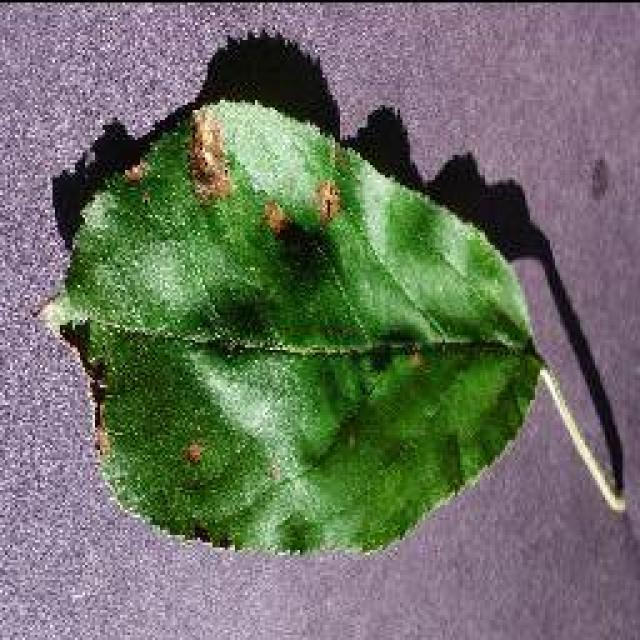apple healthy: (37, 28, 625, 558)
